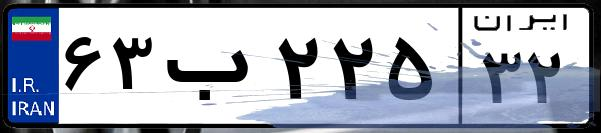2: (270, 28, 330, 110), (330, 28, 385, 110), (525, 38, 570, 115)
3: (475, 38, 525, 113), (110, 28, 158, 98)
5: (385, 28, 445, 110)
6: (57, 26, 110, 100)
ب: (158, 20, 270, 120)
